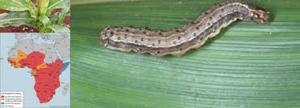fallarmy_worm: (96, 2, 274, 56)
